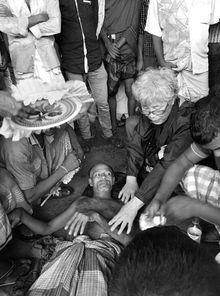Fall-Detected: (9, 151, 136, 296)
